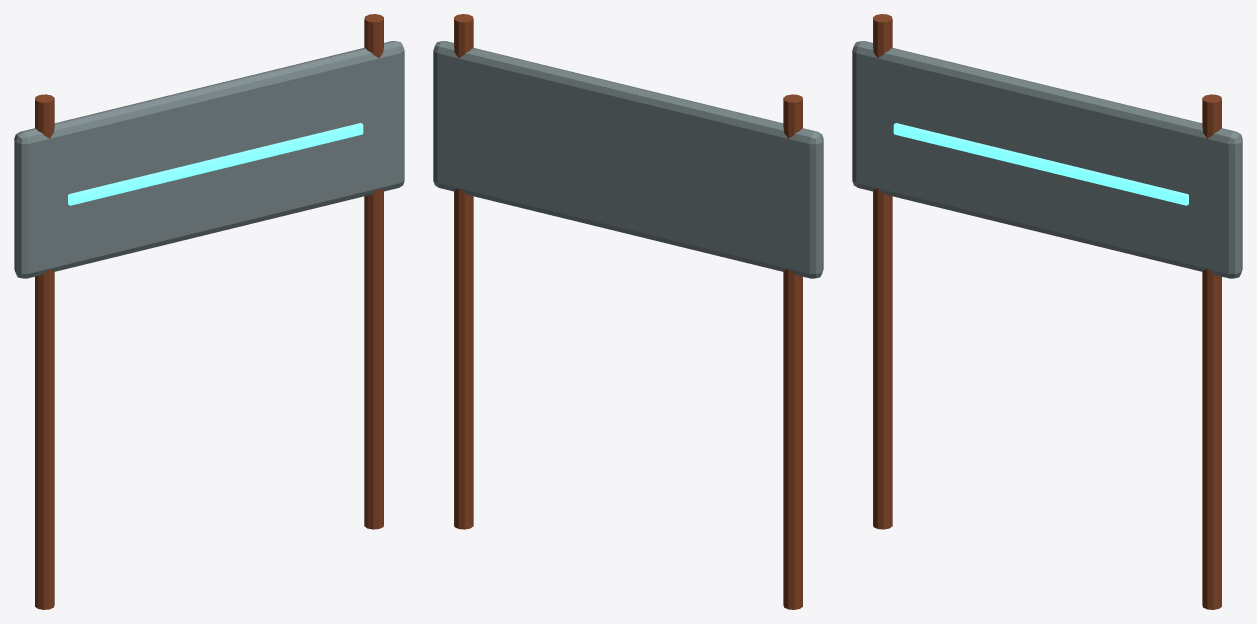
File: SM_FC01_Prop_WayfindingFrame_A.fbx
3 renders of one model, left to right at view 1: azimuth 30°, elevation 25°; view 2: azimuth 150°, elevation 25°; view 3: azimuth 330°, elevation 25°, orthographic.
Parts seen in each view (by area): view 1: SM_FC01_Prop_WayfindingFrame_A_Panel, SM_FC01_Prop_WayfindingFrame_A_Post_-0.85, SM_FC01_Prop_WayfindingFrame_A_Post_0.85, SM_FC01_Prop_WayfindingFrame_A_GlowLine; view 2: SM_FC01_Prop_WayfindingFrame_A_Panel, SM_FC01_Prop_WayfindingFrame_A_Post_-0.85, SM_FC01_Prop_WayfindingFrame_A_Post_0.85; view 3: SM_FC01_Prop_WayfindingFrame_A_Panel, SM_FC01_Prop_WayfindingFrame_A_Post_0.85, SM_FC01_Prop_WayfindingFrame_A_Post_-0.85, SM_FC01_Prop_WayfindingFrame_A_GlowLine.
Boxes of the visible parts, <box> form: SM_FC01_Prop_WayfindingFrame_A_Panel: <box>14,41,404,278</box>; SM_FC01_Prop_WayfindingFrame_A_Post_-0.85: <box>35,94,54,609</box>; SM_FC01_Prop_WayfindingFrame_A_Post_0.85: <box>364,14,383,529</box>; SM_FC01_Prop_WayfindingFrame_A_GlowLine: <box>68,123,363,205</box>; SM_FC01_Prop_WayfindingFrame_A_Panel: <box>433,41,823,278</box>; SM_FC01_Prop_WayfindingFrame_A_Post_-0.85: <box>783,94,802,609</box>; SM_FC01_Prop_WayfindingFrame_A_Post_0.85: <box>454,14,473,529</box>; SM_FC01_Prop_WayfindingFrame_A_Panel: <box>852,41,1242,278</box>; SM_FC01_Prop_WayfindingFrame_A_Post_0.85: <box>1202,94,1221,609</box>; SM_FC01_Prop_WayfindingFrame_A_Post_-0.85: <box>873,14,892,529</box>; SM_FC01_Prop_WayfindingFrame_A_GlowLine: <box>893,123,1188,205</box>.
Bounding box in the file's own units: 2 × 2.5 × 0.1125.
